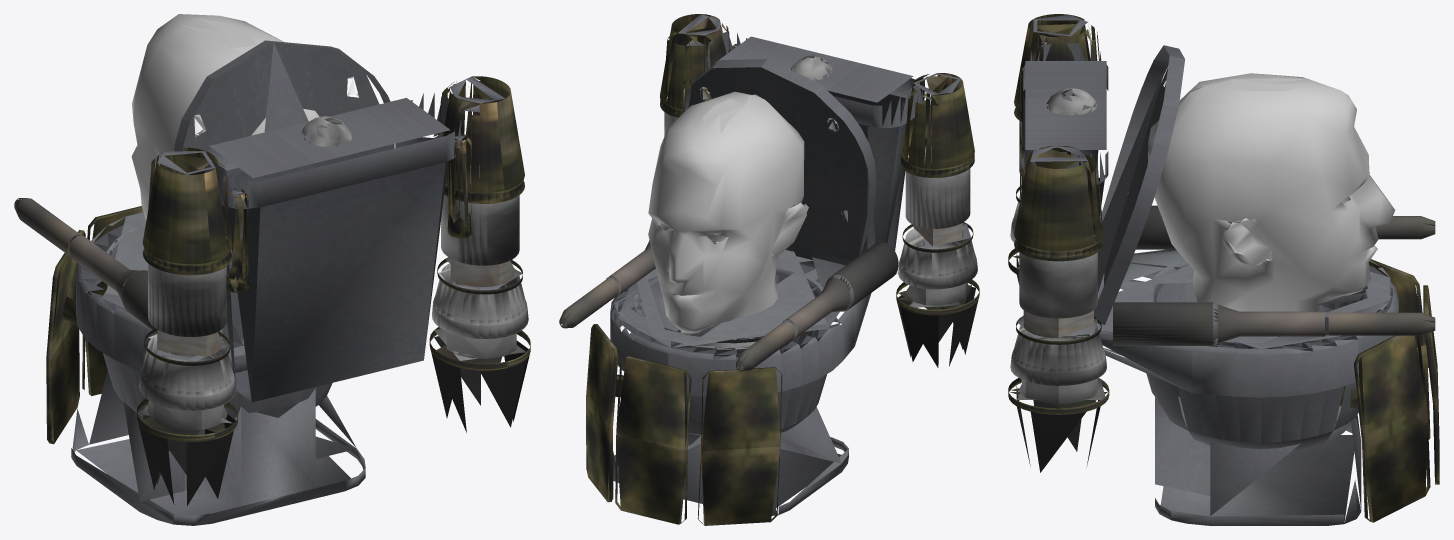
File: JetpackSkibidi.fbx
The picture shows the model from 3 angles, left to right: view 1: azimuth 30°, elevation 25°; view 2: azimuth 150°, elevation 25°; view 3: azimuth 270°, elevation 25°; orthographic projection. The views are drawn at different scales.
Parts seen in each view (by area): view 1: Jetpack Skibidi toilet, Jetpack Skibidi toilet.001; view 2: Jetpack Skibidi toilet, Jetpack Skibidi toilet.001; view 3: Jetpack Skibidi toilet, Jetpack Skibidi toilet.001.
Part boxes in pixels (x1,y1,x2,y2): Jetpack Skibidi toilet: [14, 40, 530, 525]; Jetpack Skibidi toilet.001: [131, 14, 319, 220]; Jetpack Skibidi toilet: [559, 14, 979, 525]; Jetpack Skibidi toilet.001: [648, 91, 808, 349]; Jetpack Skibidi toilet: [1008, 14, 1439, 525]; Jetpack Skibidi toilet.001: [1147, 73, 1395, 312].
Bounding box in the file's own units: 408 × 473 × 438.
